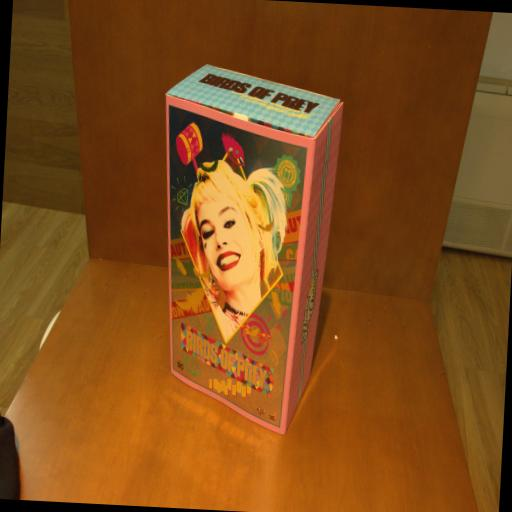Harley: (148, 61, 346, 440)
